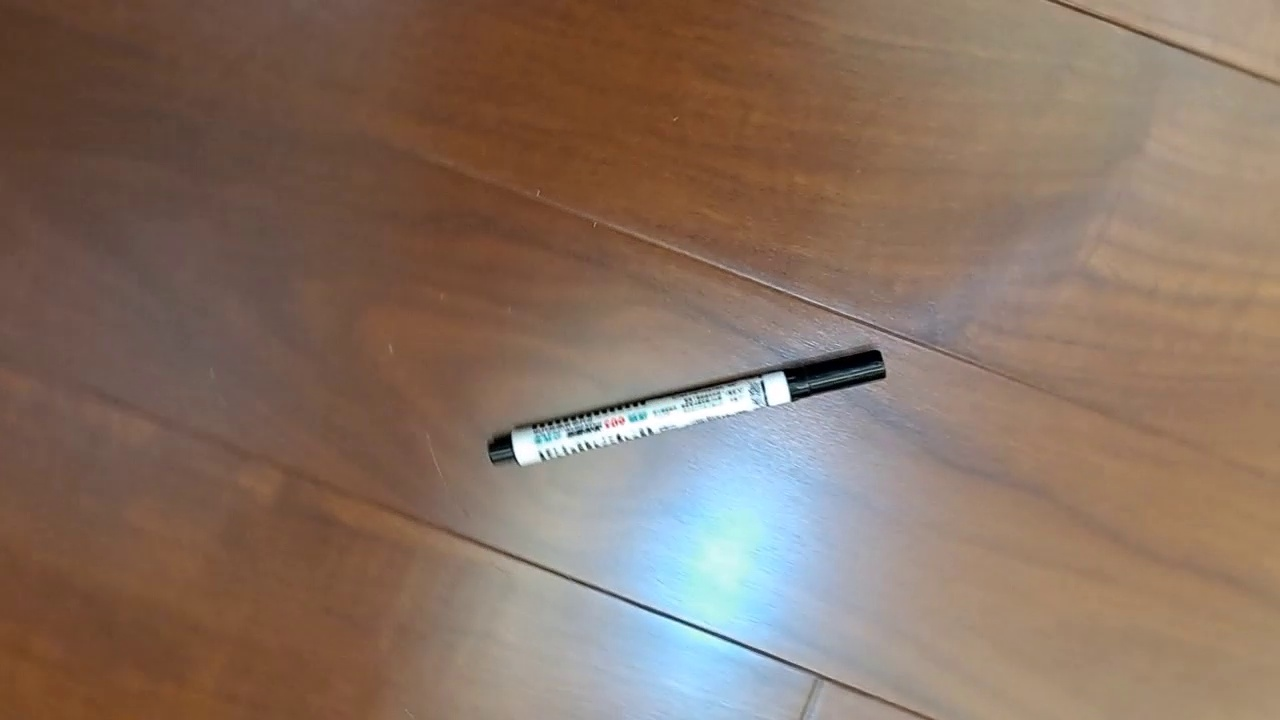pen: (487, 345, 887, 468)
